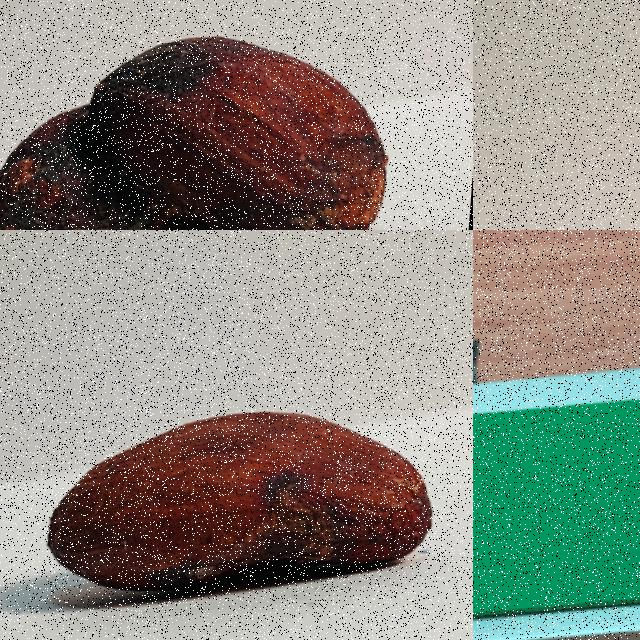Agglomerated_cocoabeans: (0, 0, 472, 229), (476, 167, 639, 229)
Fine_cocoabeans: (0, 363, 472, 639)
